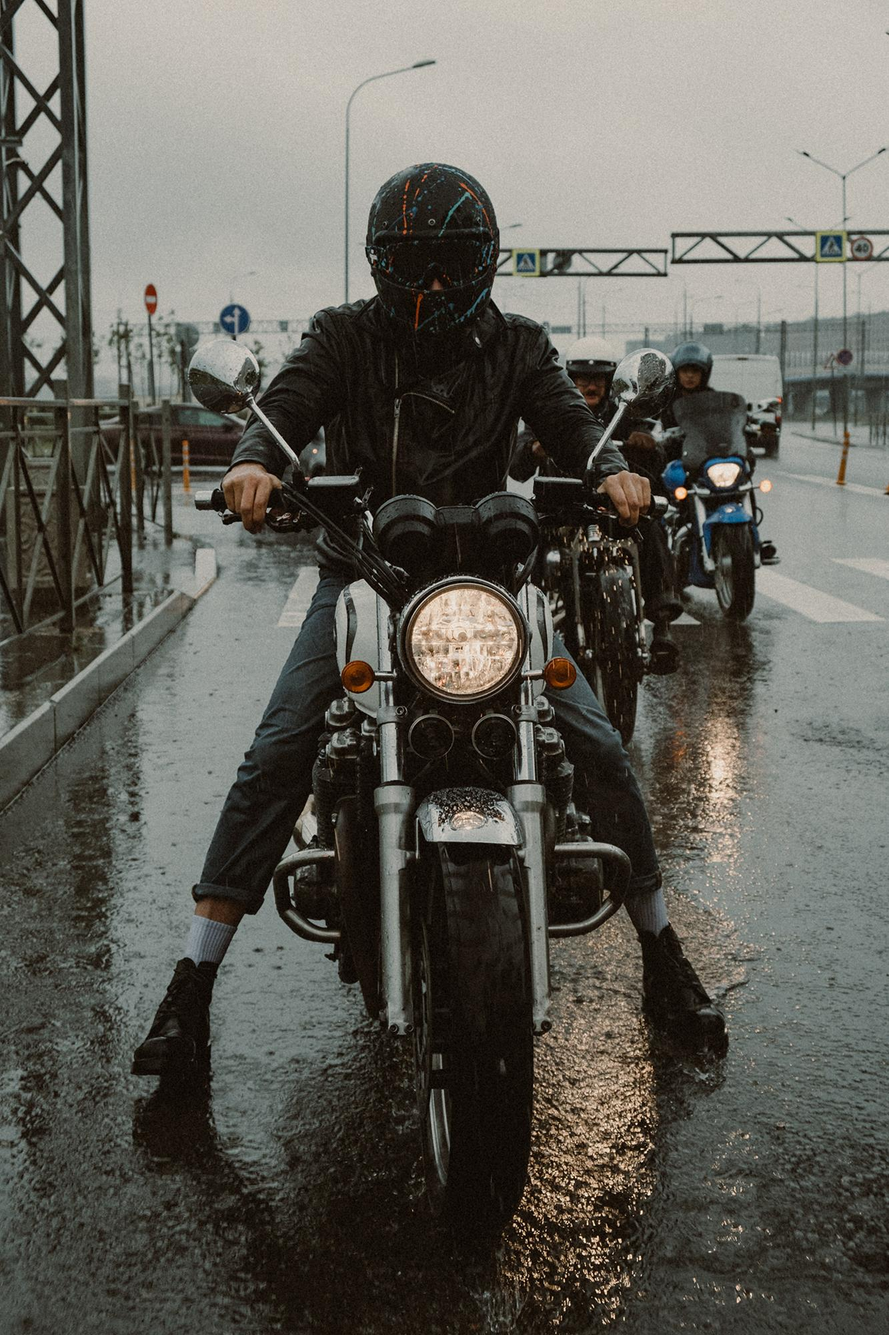helmet: (364, 161, 501, 336), (565, 335, 619, 417), (668, 338, 715, 395)
